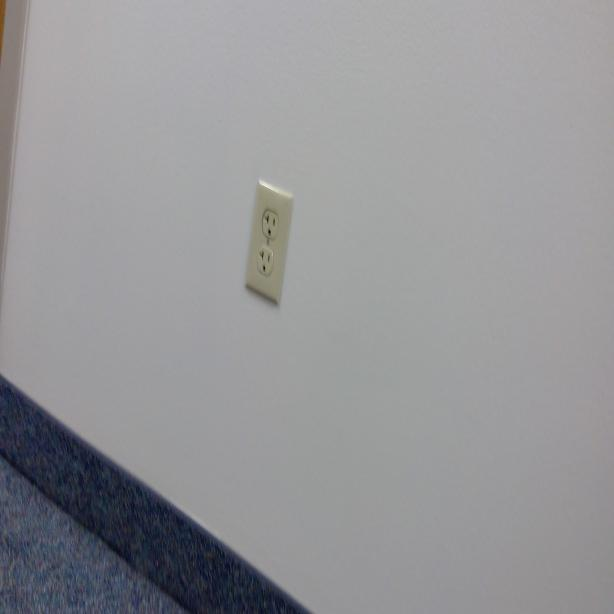typeb: (262, 209, 278, 238), (257, 246, 273, 274)
